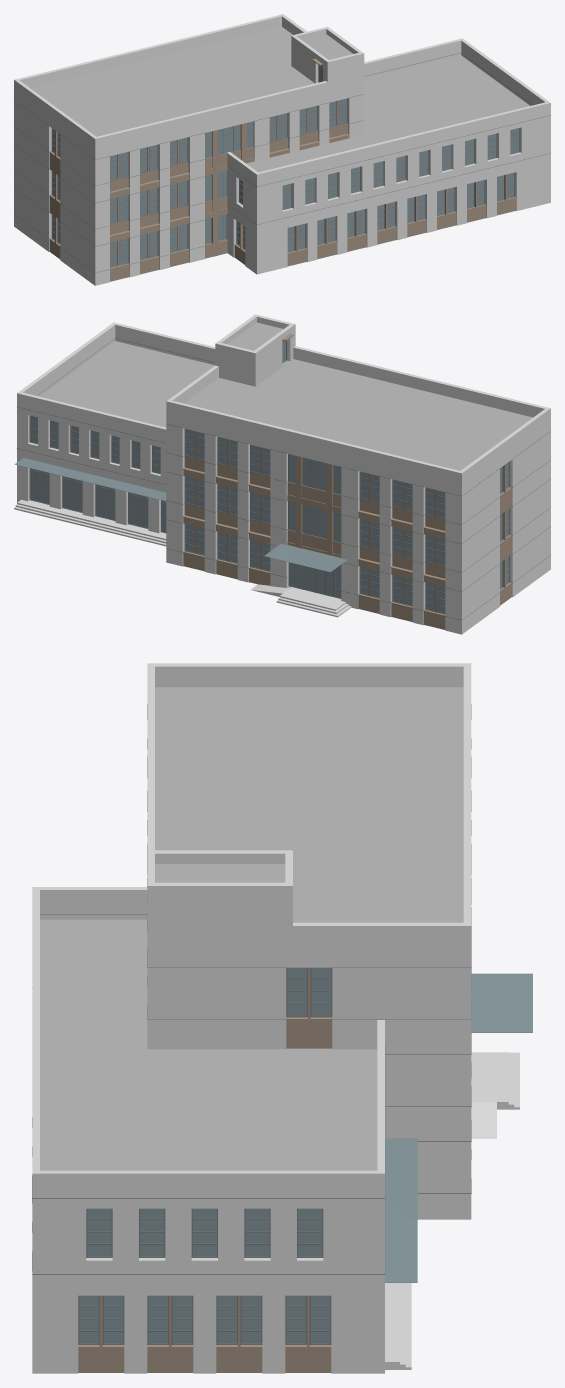
The picture shows the model from 3 angles, top to bottom: view 1: azimuth 30°, elevation 25°; view 2: azimuth 150°, elevation 25°; view 3: azimuth 270°, elevation 25°; orthographic projection. The views are drawn at different scales.
Visible parts, largest first — view 1: 住宅楼27; view 2: 住宅楼27; view 3: 住宅楼27.
Boxes of the visible parts, left/top/right/bottom form: 住宅楼27: left=14, top=14, right=550, bottom=285; 住宅楼27: left=14, top=314, right=550, bottom=634; 住宅楼27: left=32, top=663, right=532, bottom=1373.
Size of the model in its own units: 51.42 by 19.2 by 26.12.
